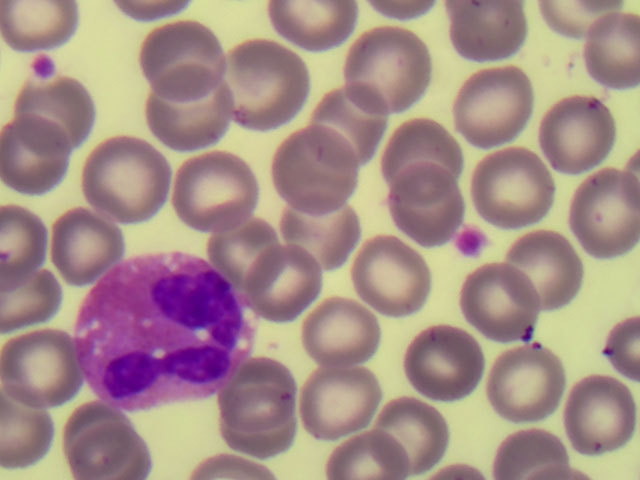Platelets: (459, 227, 485, 259), (36, 53, 57, 77)
RBC: (148, 67, 229, 159), (273, 121, 352, 210), (225, 40, 303, 129), (365, 393, 451, 472), (88, 136, 167, 218), (458, 268, 544, 341), (350, 32, 428, 112), (313, 83, 382, 172), (403, 326, 484, 399), (174, 153, 258, 223), (279, 191, 355, 267), (489, 342, 561, 421), (574, 170, 640, 256), (542, 94, 614, 172), (210, 215, 283, 291), (456, 72, 531, 145), (17, 78, 93, 150), (387, 124, 460, 198), (143, 24, 221, 92), (479, 149, 548, 225), (564, 380, 633, 454), (249, 247, 317, 322), (391, 164, 458, 240), (2, 120, 68, 197), (506, 229, 577, 299), (357, 239, 425, 310), (307, 303, 377, 369), (305, 370, 376, 434), (219, 394, 293, 455), (3, 335, 69, 402), (54, 210, 119, 277), (69, 425, 147, 480), (455, 5, 528, 61), (228, 363, 297, 422), (267, 1, 352, 48), (323, 433, 405, 480), (3, 205, 46, 291), (1, 1, 72, 53), (66, 405, 125, 467), (2, 390, 47, 464), (495, 432, 563, 480), (1, 269, 56, 324), (601, 318, 640, 383), (196, 450, 279, 480), (106, 1, 190, 18), (367, 1, 429, 18)
WBC: (79, 248, 234, 405)
